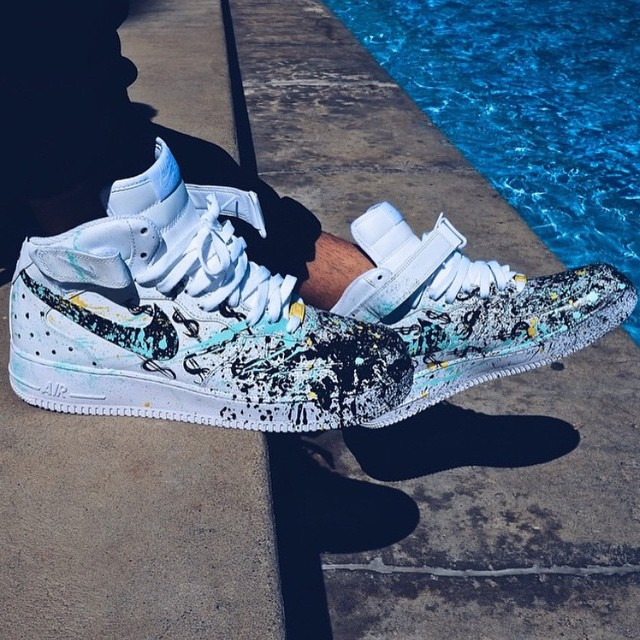sneaker: (1, 128, 429, 450), (292, 179, 640, 445)
